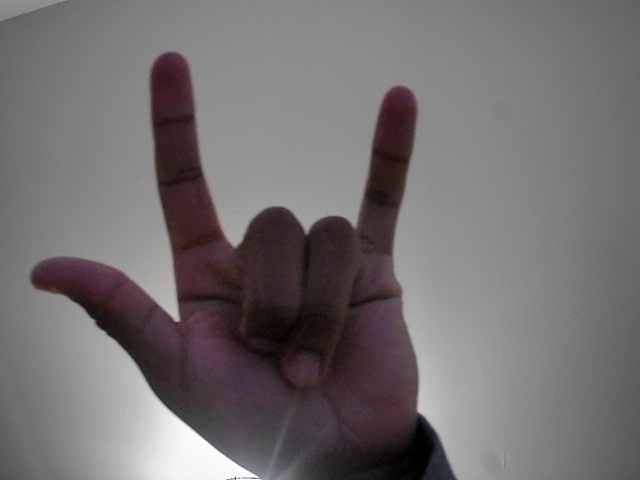ILoveYou: (13, 45, 465, 480)
